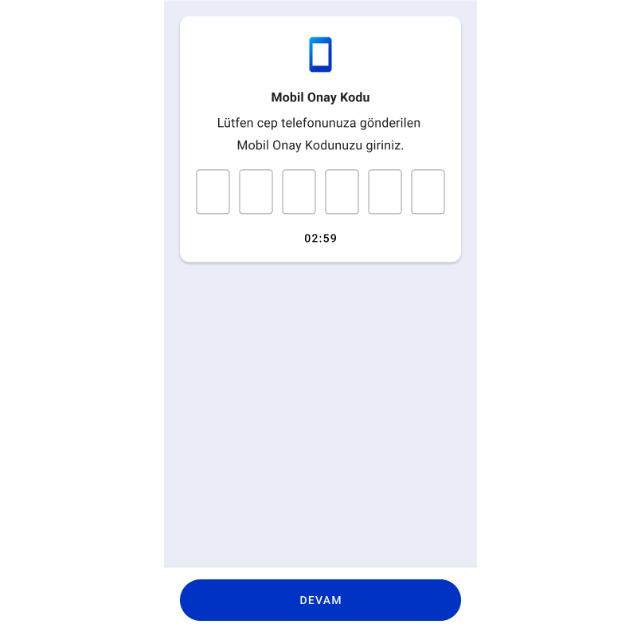QLabel: (214, 115, 420, 131), (235, 138, 405, 152), (268, 90, 369, 106), (301, 230, 337, 246), (297, 595, 343, 607)
QOtp: (191, 164, 447, 218)
VBtn: (180, 578, 460, 622)
VCard: (179, 16, 461, 262)
VFooter: (164, 568, 476, 640)
VImg: (305, 34, 333, 74)
